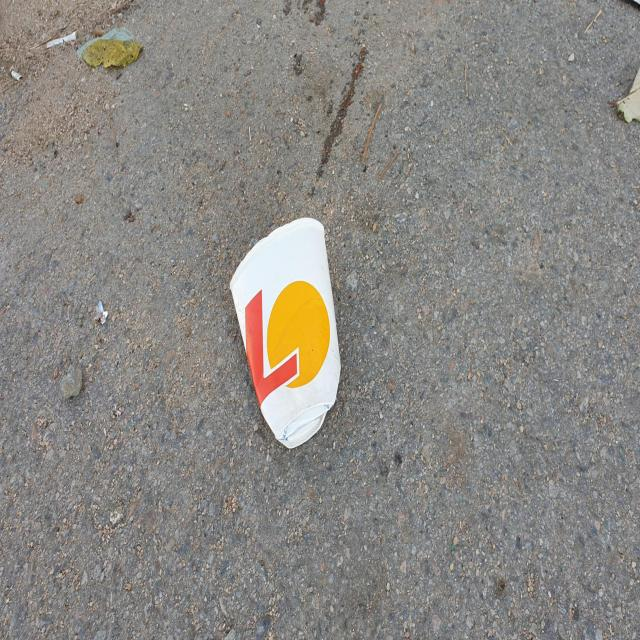paperpack: (230, 217, 341, 449)
